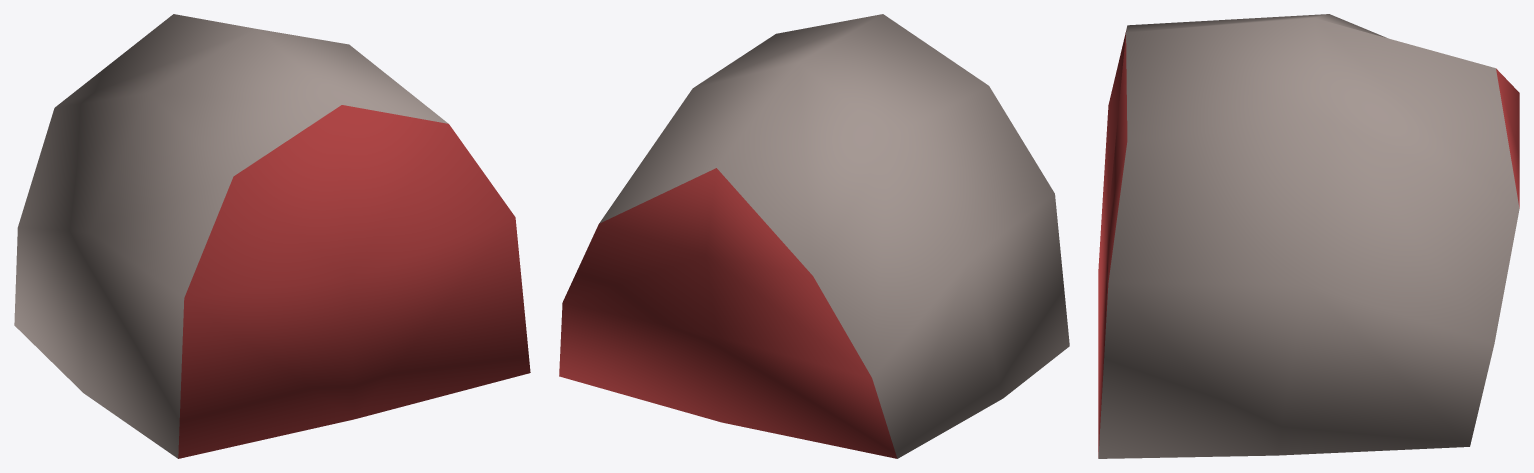
File: ratChunk.glb
The picture shows the model from 3 angles, left to right: view 1: azimuth 30°, elevation 25°; view 2: azimuth 150°, elevation 25°; view 3: azimuth 270°, elevation 25°; orthographic projection. The views are drawn at different scales.
Parts seen in each view (by area): view 1: RatChunk; view 2: RatChunk; view 3: RatChunk.
Part boxes in pixels (x1,y1,x2,y2): RatChunk: (14,14,530,458); RatChunk: (559,14,1069,458); RatChunk: (1098,14,1519,458).
Size of the model in its own units: 3.53 by 2.83 by 3.09.
1 material, 1 textured.
